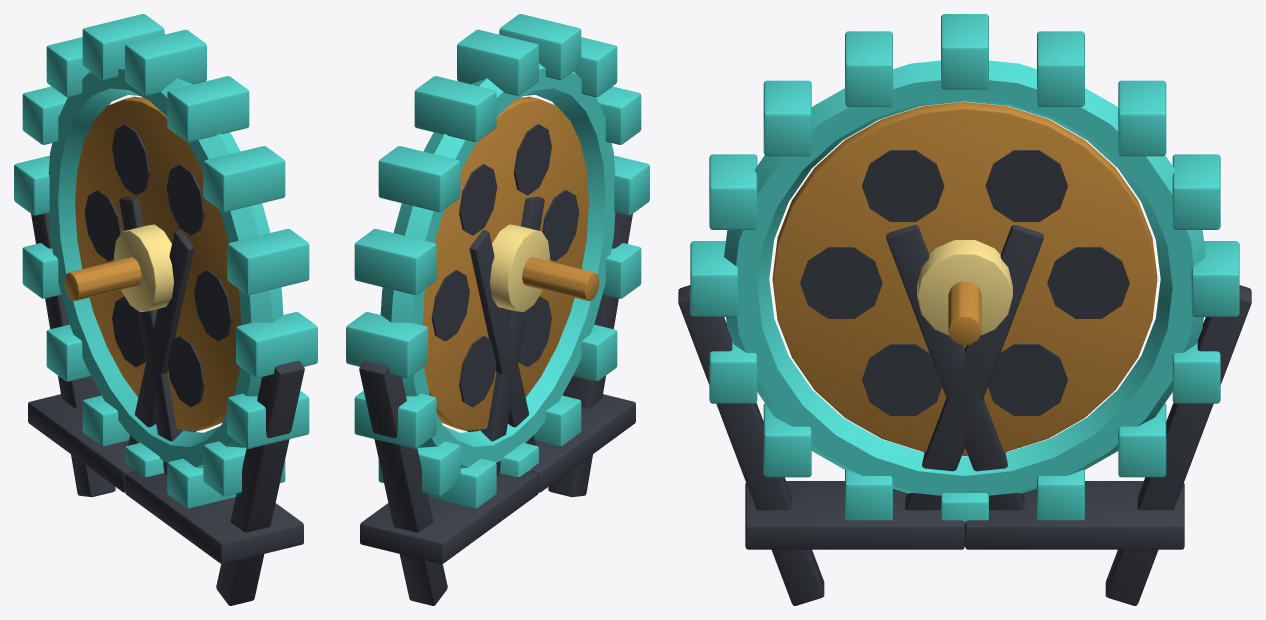
File: LandFlywheel.fbx
The picture shows the model from 3 angles, left to right: view 1: azimuth 30°, elevation 25°; view 2: azimuth 150°, elevation 25°; view 3: azimuth 270°, elevation 25°; orthographic projection. The views are drawn at different scales.
Parts seen in each view (by area): view 1: LandFlywheel; view 2: LandFlywheel; view 3: LandFlywheel.
Boxes of the visible parts, x1=… form: LandFlywheel: x1=14, y1=14, x2=317, y2=605; LandFlywheel: x1=346, y1=14, x2=649, y2=605; LandFlywheel: x1=678, y1=14, x2=1251, y2=605.
Size of the model in its own units: 360 by 916 by 835.
